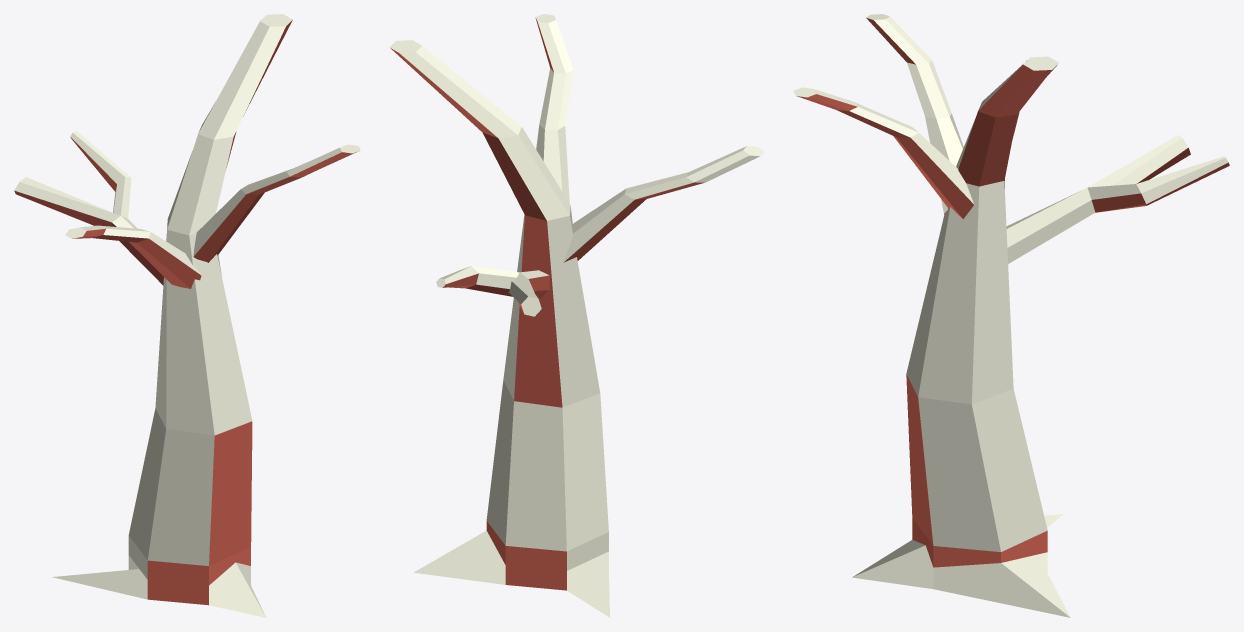
Rendered from Tree6_winter.FBX.
3 views of the same model, side by side, from view 1: azimuth 30°, elevation 25°; view 2: azimuth 150°, elevation 25°; view 3: azimuth 270°, elevation 25° (orthographic). The views are drawn at different scales.
Parts seen in each view (by area): view 1: Tree 3 autumn.004; view 2: Tree 3 autumn.004; view 3: Tree 3 autumn.004.
Boxes of the visible parts, box(x1,y1,x2,y2) form: Tree 3 autumn.004: box(14, 14, 360, 617); Tree 3 autumn.004: box(389, 14, 764, 617); Tree 3 autumn.004: box(793, 14, 1229, 617).
Bounding box in the file's own units: 3.09 × 5.1 × 3.57.
